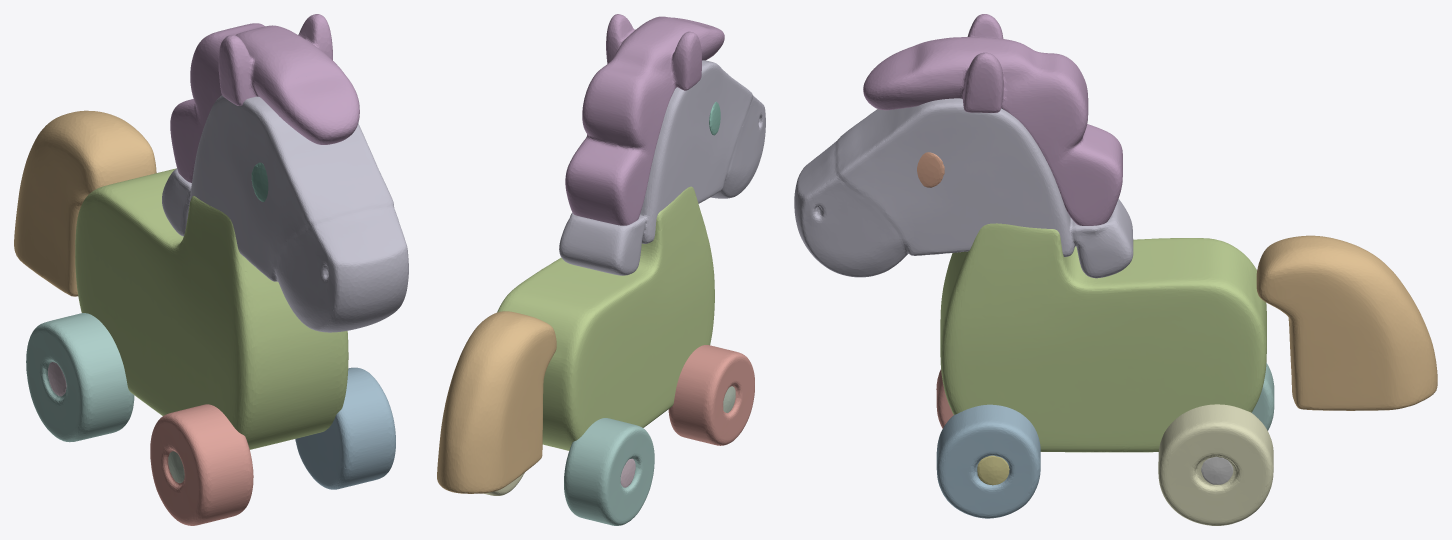
Rendered from wooden_roy_horse.glb.
The picture shows the model from 3 angles, left to right: view 1: azimuth 30°, elevation 25°; view 2: azimuth 150°, elevation 25°; view 3: azimuth 270°, elevation 25°; orthographic projection. The views are drawn at different scales.
Parts seen in each view (by area): view 1: wooden_roy_horse_2.obj_6, wooden_roy_horse_2.obj_2, wooden_roy_horse_2.obj_9, wooden_roy_horse_2.obj_5, wooden_roy_horse_2.obj, wooden_roy_horse_2.obj_3, wooden_roy_horse_2.obj_4, wooden_roy_horse_2.obj_12, wooden_roy_horse_2.obj_7; view 2: wooden_roy_horse_2.obj_6, wooden_roy_horse_2.obj_9, wooden_roy_horse_2.obj_2, wooden_roy_horse_2.obj_5, wooden_roy_horse_2.obj, wooden_roy_horse_2.obj_3; view 3: wooden_roy_horse_2.obj_6, wooden_roy_horse_2.obj_2, wooden_roy_horse_2.obj_5, wooden_roy_horse_2.obj_9, wooden_roy_horse_2.obj_1, wooden_roy_horse_2.obj_4, wooden_roy_horse_2.obj, wooden_roy_horse_2.obj_11, wooden_roy_horse_2.obj_13, wooden_roy_horse_2.obj_8.
Boxes of the visible parts, box(x1,y1,x2,y2) form: wooden_roy_horse_2.obj_6: box(75, 168, 348, 449); wooden_roy_horse_2.obj_2: box(162, 95, 408, 332); wooden_roy_horse_2.obj_9: box(170, 14, 359, 182); wooden_roy_horse_2.obj_5: box(14, 110, 156, 296); wooden_roy_horse_2.obj: box(26, 313, 134, 442); wooden_roy_horse_2.obj_3: box(150, 404, 253, 525); wooden_roy_horse_2.obj_4: box(295, 367, 395, 489); wooden_roy_horse_2.obj_12: box(251, 162, 268, 201); wooden_roy_horse_2.obj_7: box(48, 362, 66, 396); wooden_roy_horse_2.obj_6: box(497, 186, 714, 450); wooden_roy_horse_2.obj_9: box(565, 14, 724, 225); wooden_roy_horse_2.obj_2: box(559, 60, 765, 275); wooden_roy_horse_2.obj_5: box(437, 311, 556, 493); wooden_roy_horse_2.obj: box(564, 418, 654, 525); wooden_roy_horse_2.obj_3: box(668, 345, 754, 445); wooden_roy_horse_2.obj_6: box(940, 223, 1266, 452); wooden_roy_horse_2.obj_2: box(794, 98, 1133, 278); wooden_roy_horse_2.obj_5: box(1256, 235, 1437, 410); wooden_roy_horse_2.obj_9: box(863, 14, 1122, 225); wooden_roy_horse_2.obj_1: box(1158, 404, 1273, 525); wooden_roy_horse_2.obj_4: box(936, 404, 1040, 518); wooden_roy_horse_2.obj: box(1251, 363, 1274, 430); wooden_roy_horse_2.obj_11: box(977, 455, 1009, 485); wooden_roy_horse_2.obj_13: box(917, 152, 944, 187); wooden_roy_horse_2.obj_8: box(1201, 456, 1233, 484).
Bounding box in the file's own units: 0.618 × 1.44 × 1.87.
